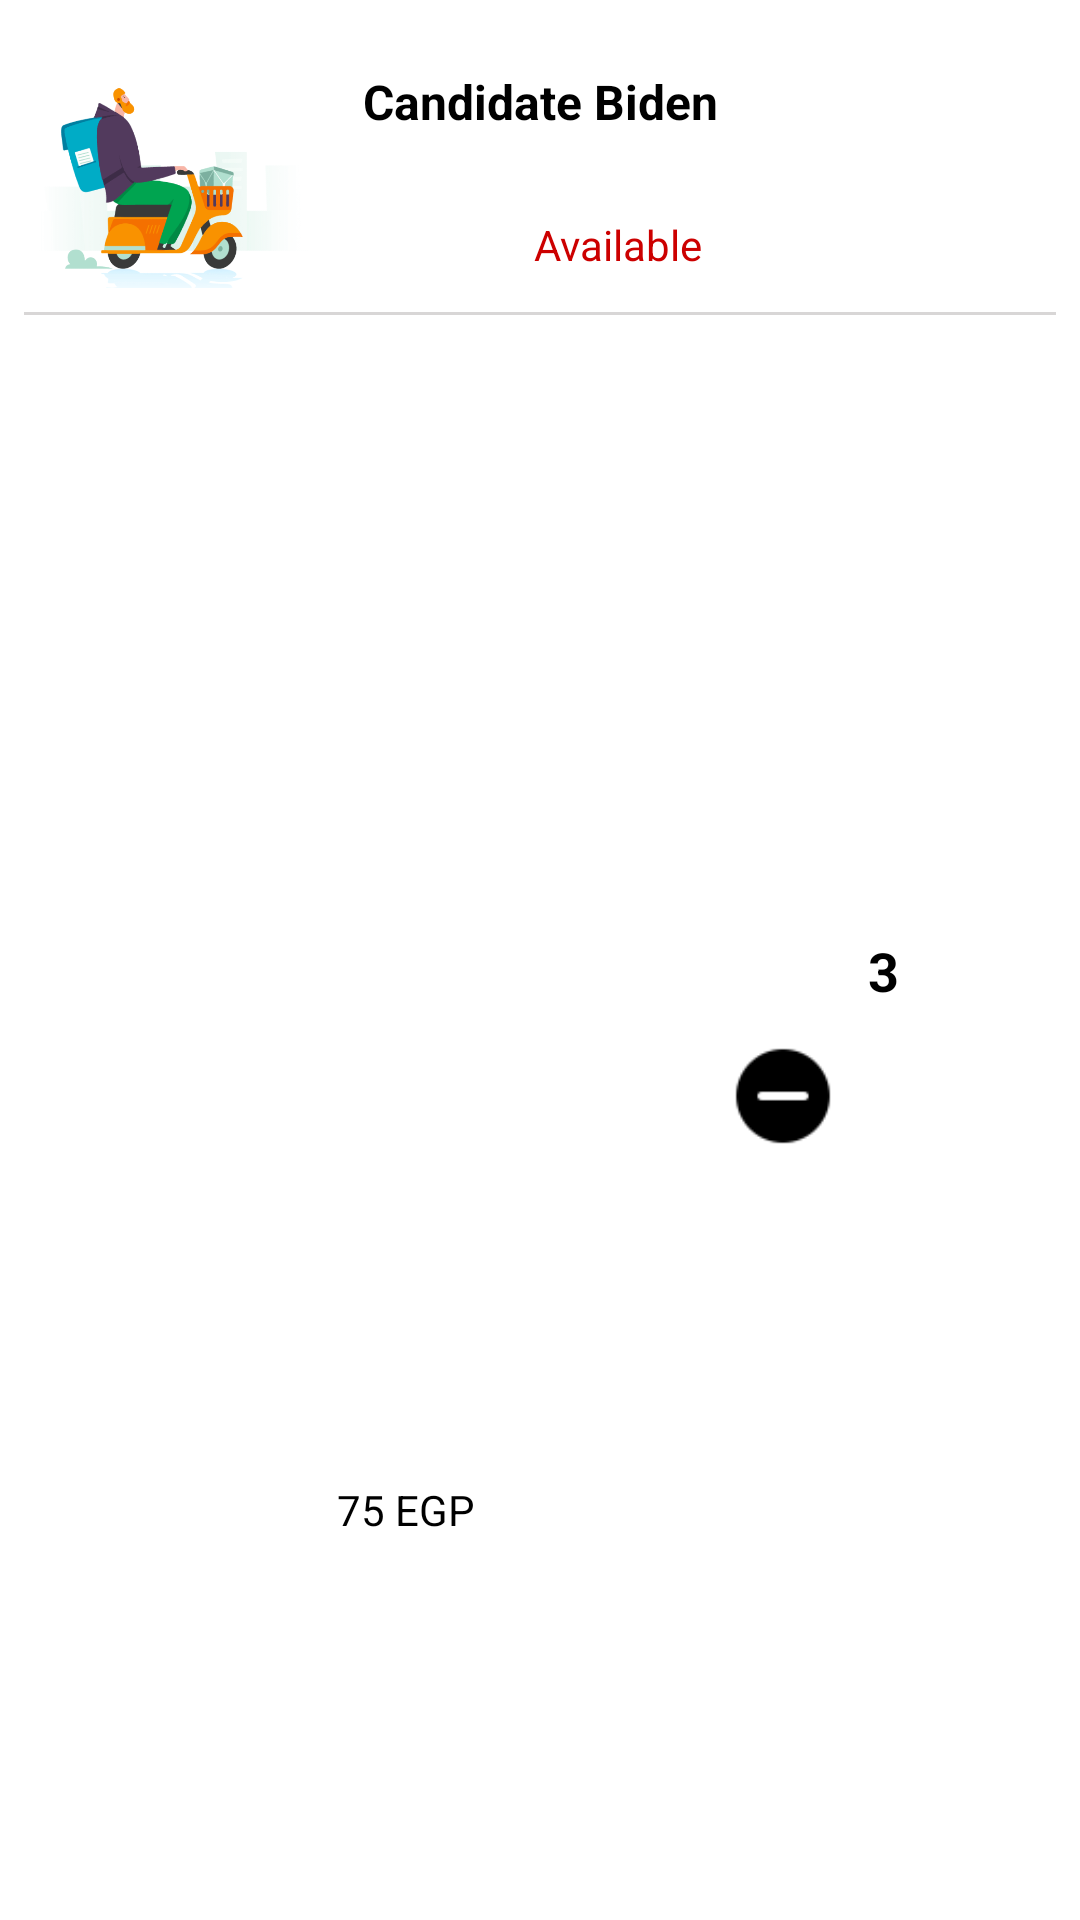

Named icons in this screenshot (1080x1920) and their centers, (x=x, y=y):
minuss: (x=783, y=1096)
